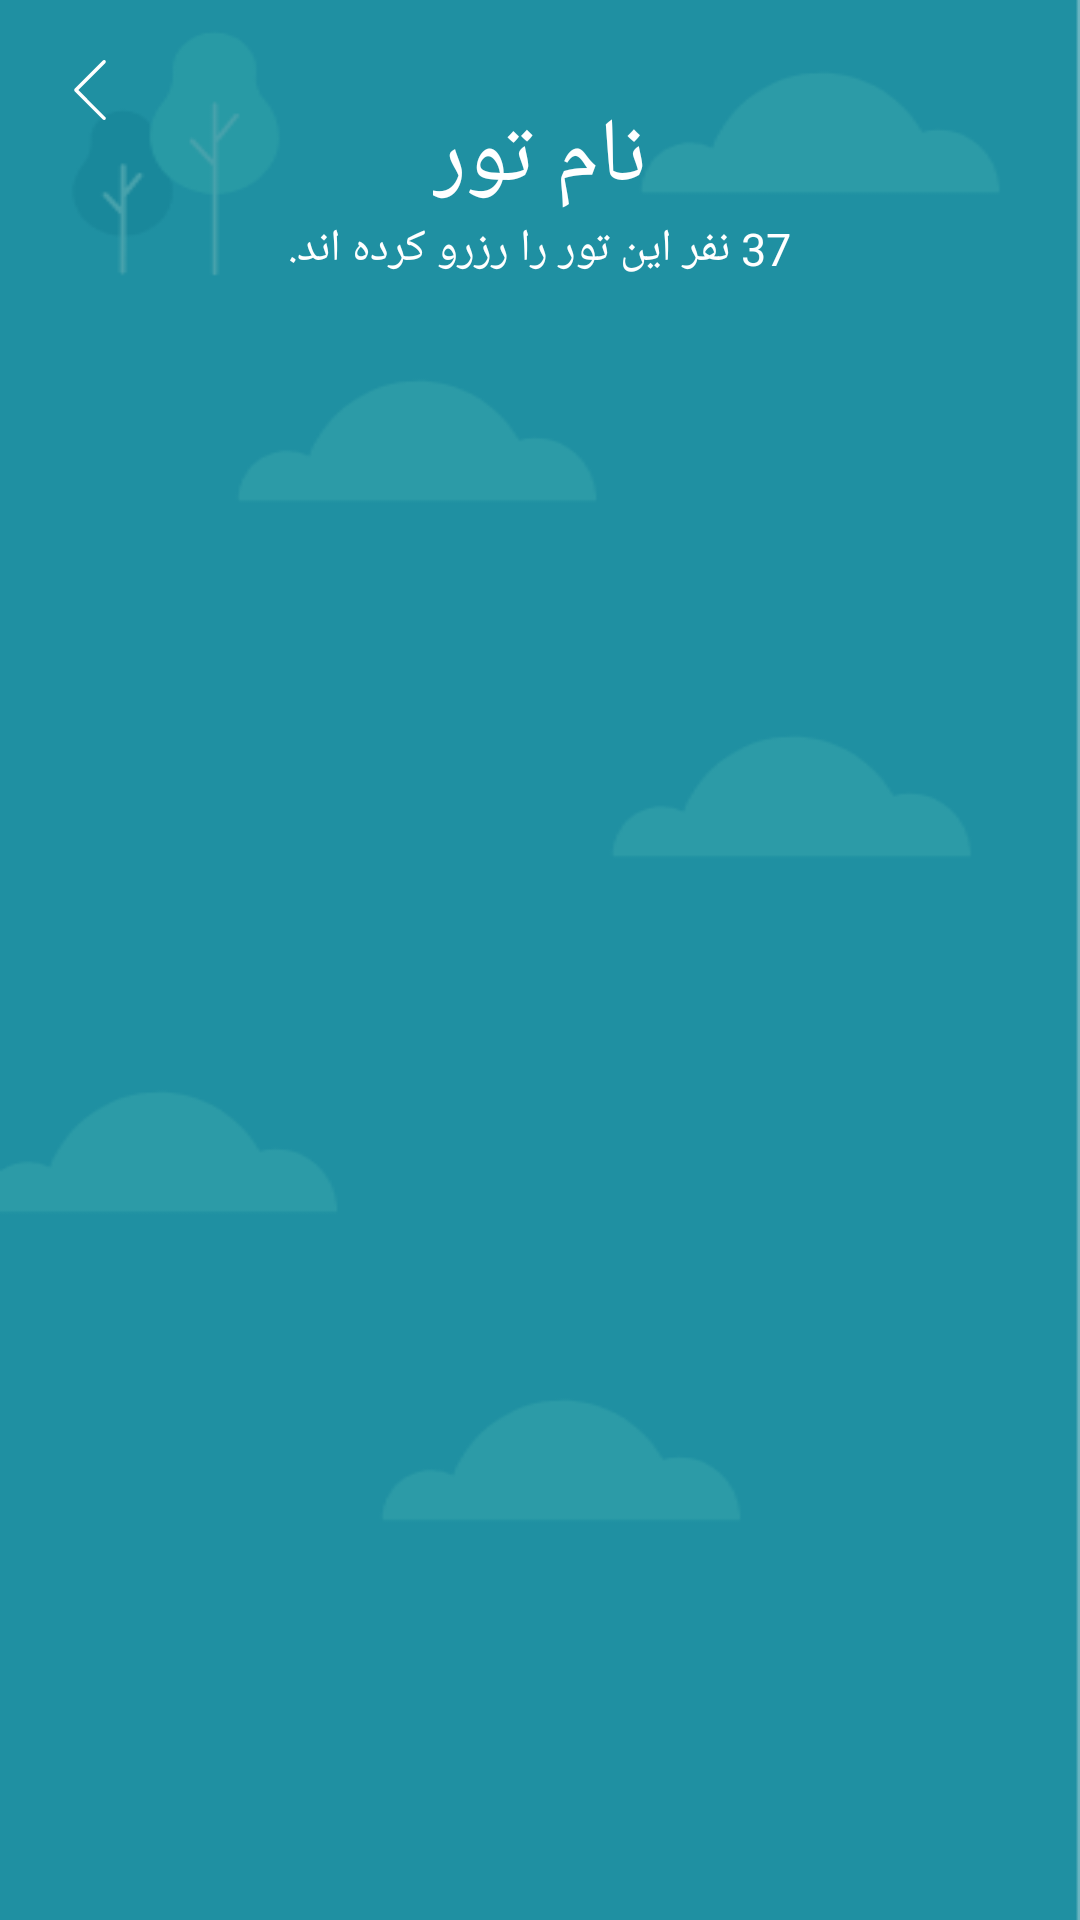

Icons on this 1080 × 1920 Android screen, each with the point to tap as (x=x, y=y):
arrow back: (x=90, y=90)
